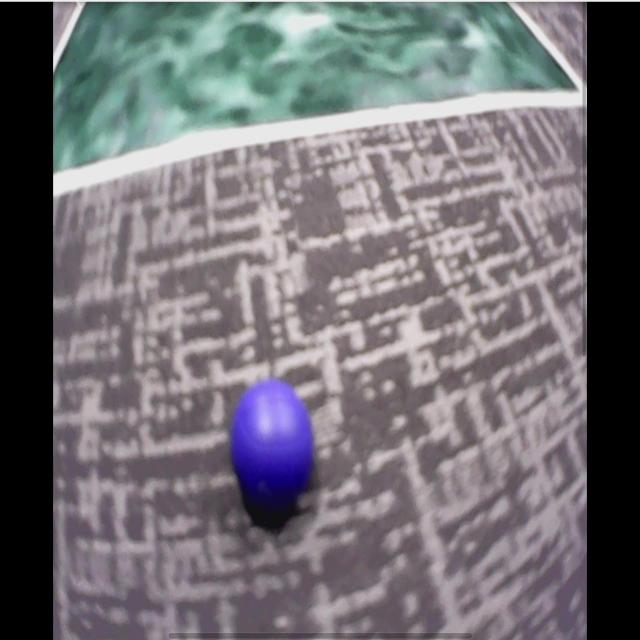ball: (231, 389, 314, 506)
